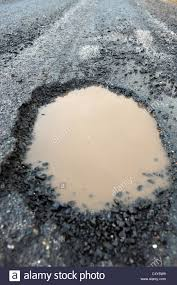pothole: (7, 79, 177, 263)
